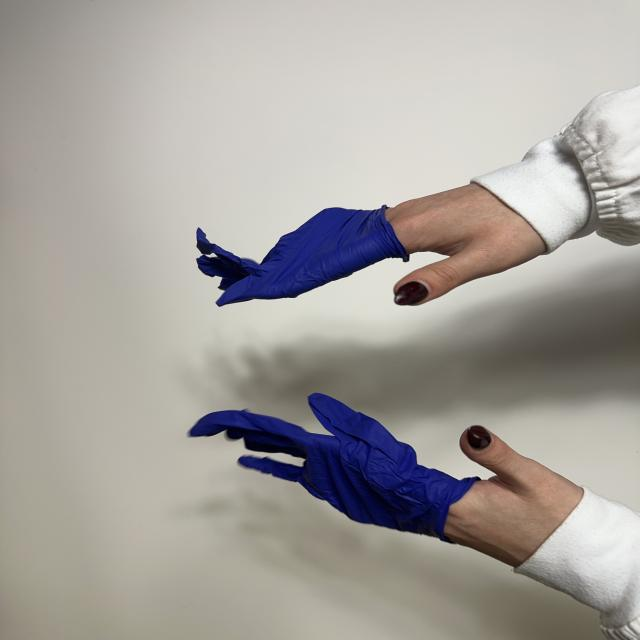glove_partial: (190, 393, 582, 567), (197, 184, 545, 306)
